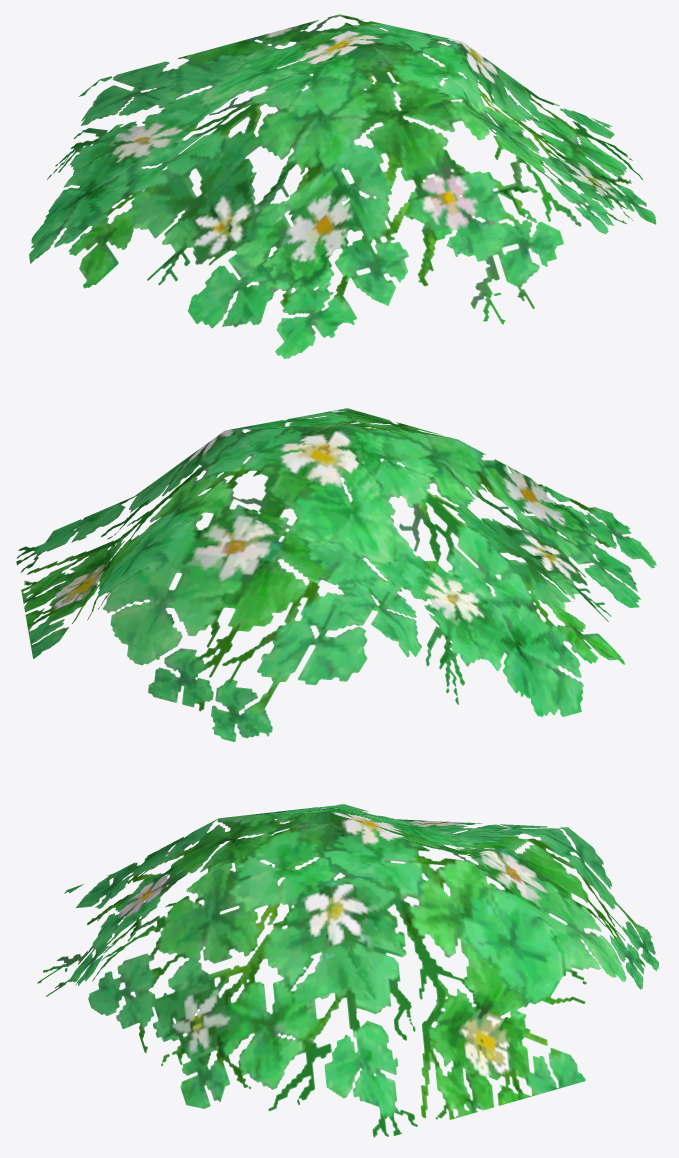
The model's file is nml-bd024.glb.
The picture shows the model from 3 angles, top to bottom: view 1: azimuth 30°, elevation 25°; view 2: azimuth 150°, elevation 25°; view 3: azimuth 270°, elevation 25°; orthographic projection.
Visible parts, largest first — view 1: geom_node_0; view 2: geom_node_0; view 3: geom_node_0.
Part boxes in pixels (bbox=[...]): geom_node_0: bbox=[29, 14, 656, 358]; geom_node_0: bbox=[16, 408, 656, 741]; geom_node_0: bbox=[37, 804, 658, 1137].
Size of the model in its own units: 3.92 by 1.1 by 3.57.
Materials: 1 (1 with a texture image).
